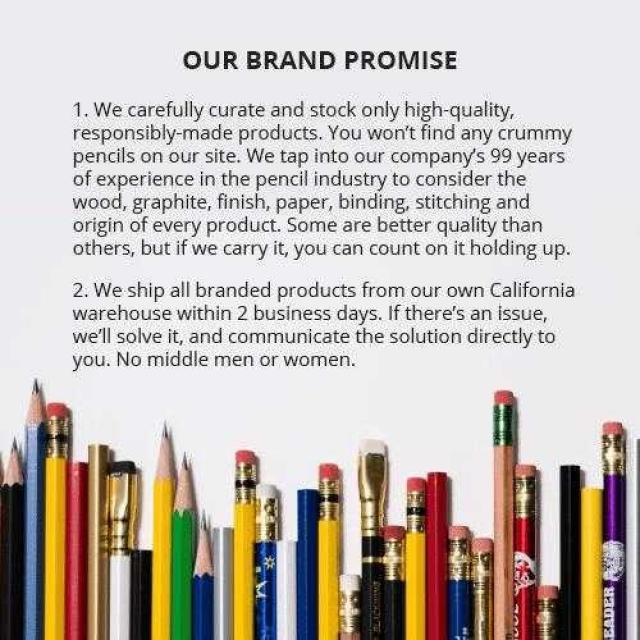pencil: (42, 388, 70, 640), (22, 368, 44, 640), (603, 422, 627, 640), (0, 411, 22, 639), (494, 385, 512, 640), (71, 389, 89, 640), (154, 398, 172, 640), (173, 428, 193, 640), (427, 470, 451, 640), (90, 390, 106, 640), (562, 461, 584, 640), (254, 483, 278, 640), (516, 459, 535, 640), (321, 461, 340, 640), (237, 445, 254, 640), (297, 491, 318, 640), (195, 493, 215, 640), (132, 498, 152, 640), (471, 535, 495, 640), (382, 526, 404, 640), (216, 522, 235, 640), (275, 541, 296, 640), (451, 531, 470, 640), (411, 478, 423, 640), (538, 579, 558, 640), (341, 574, 358, 640)
